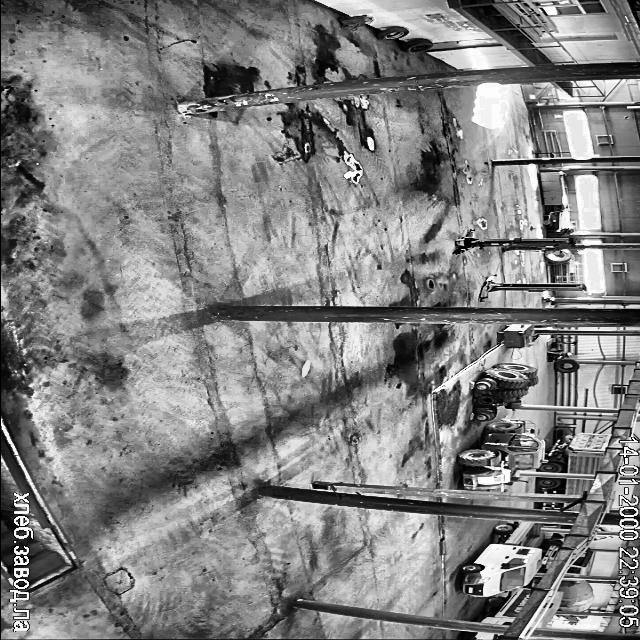class6: (458, 419, 544, 489), (474, 362, 538, 420)
class7: (460, 522, 541, 596), (540, 432, 612, 473), (482, 588, 532, 624), (538, 477, 593, 494), (538, 592, 560, 626), (541, 498, 580, 511), (462, 632, 500, 640)
tractor: (340, 16, 372, 28)
truck: (454, 230, 574, 253), (479, 275, 586, 298)
